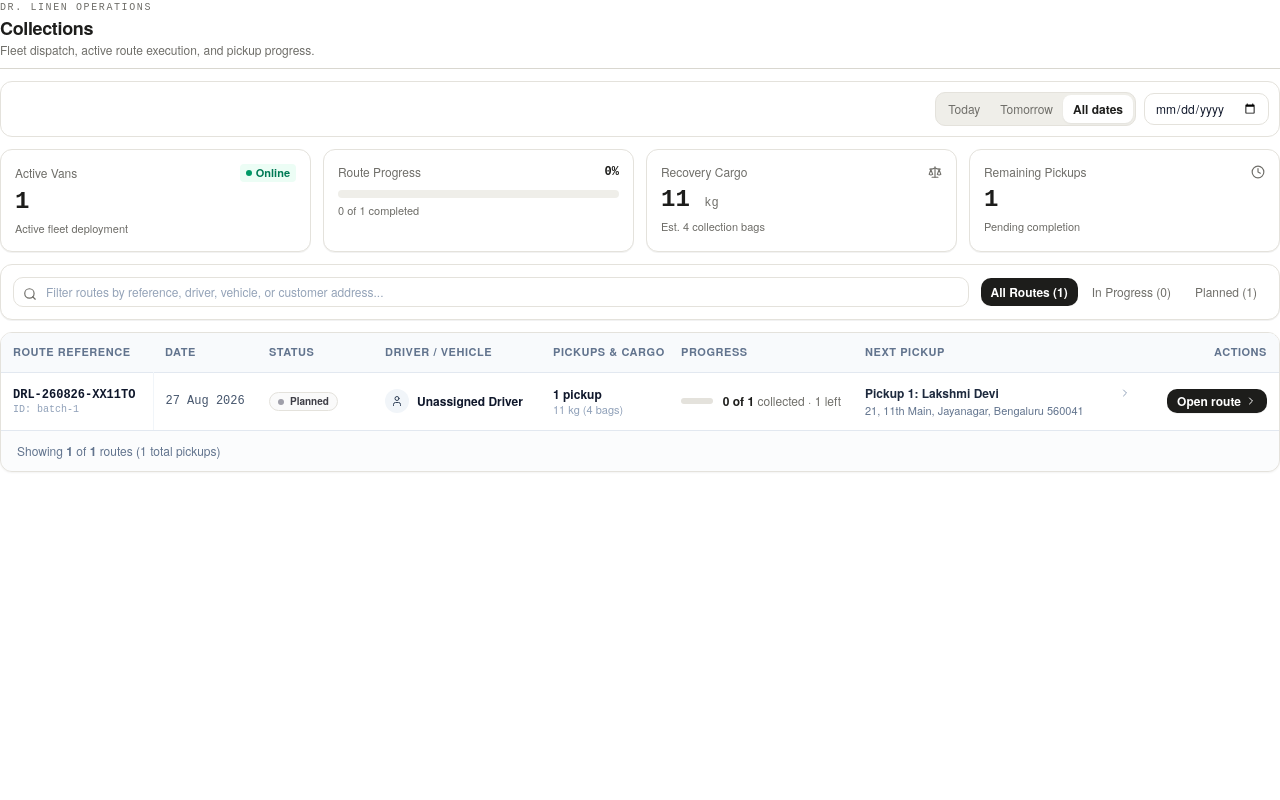
it: TextileDispatchPage › opens and closes the trip sheet modal for high-density route manifests
The image size is (1280, 800).
# Open route details drawer first by clicking the route row
Click the text "DRL-260826-XX11TO" at (77, 395), box [13,387,140,403]
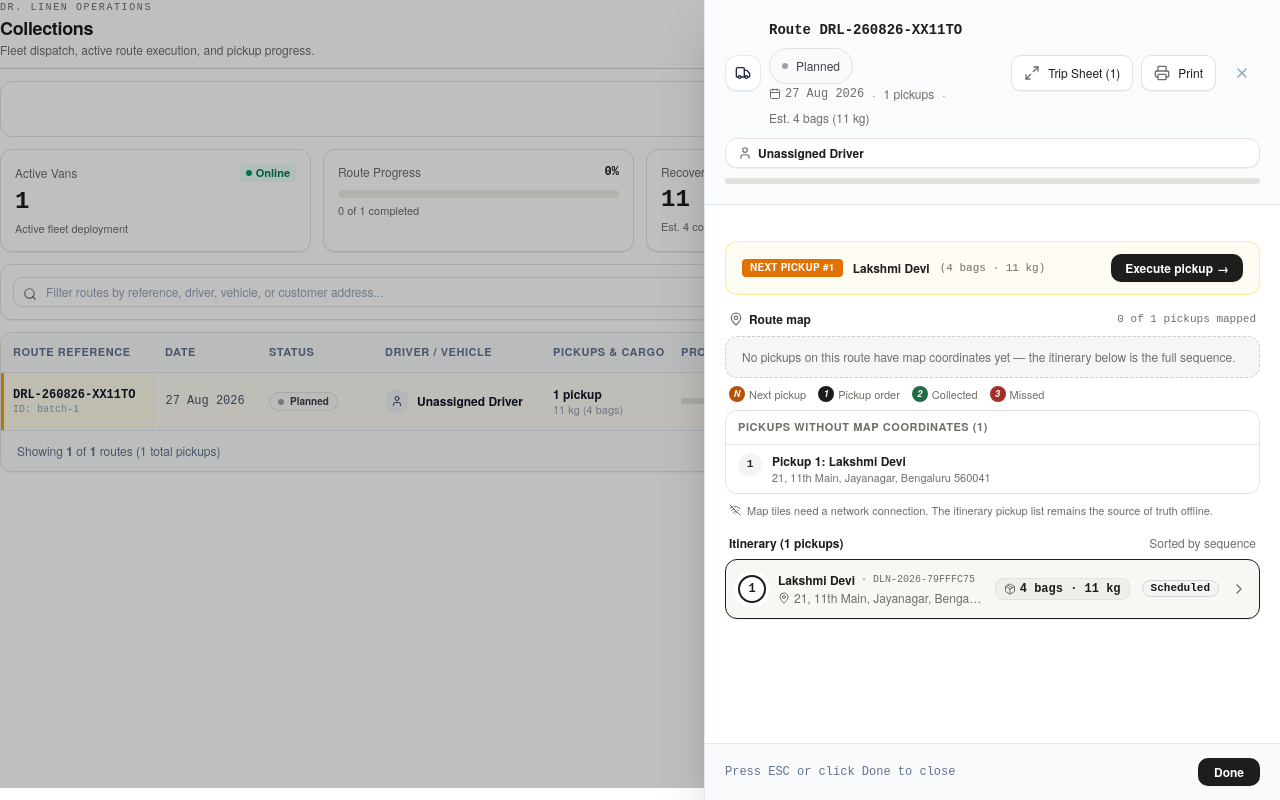
# Open Trip Sheet modal from drawer header
Click the button "Trip Sheet (1)" at (1072, 73), box [1011,55,1133,91]
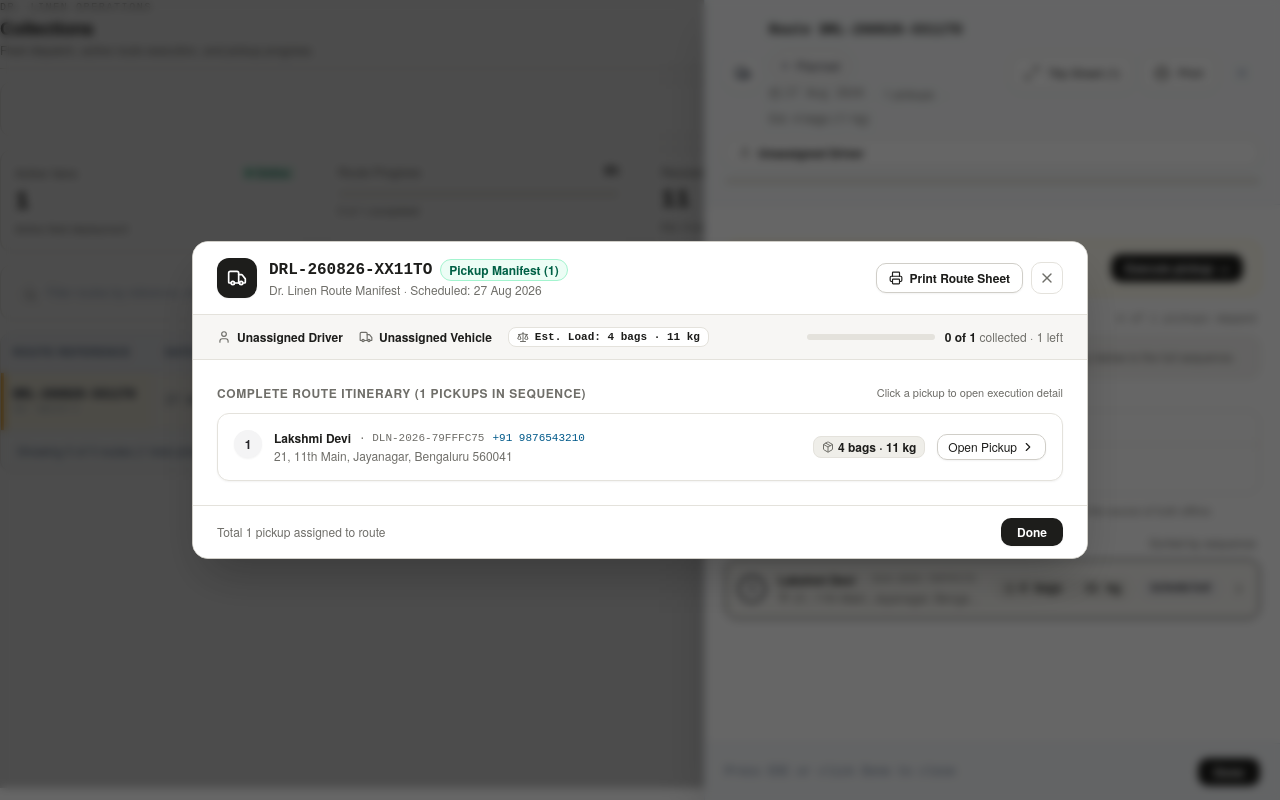
Expected: the dialog is shown, [192,241,1088,559]
Expected: the text "Pickup Manifest (1)" is shown, [440,259,568,281]
Expected: the heading "DRL-260826-XX11TO" is shown, [269,258,432,282]
# Close via Done button
Click the button "Done" at (1032, 532), box [1001,518,1063,546]
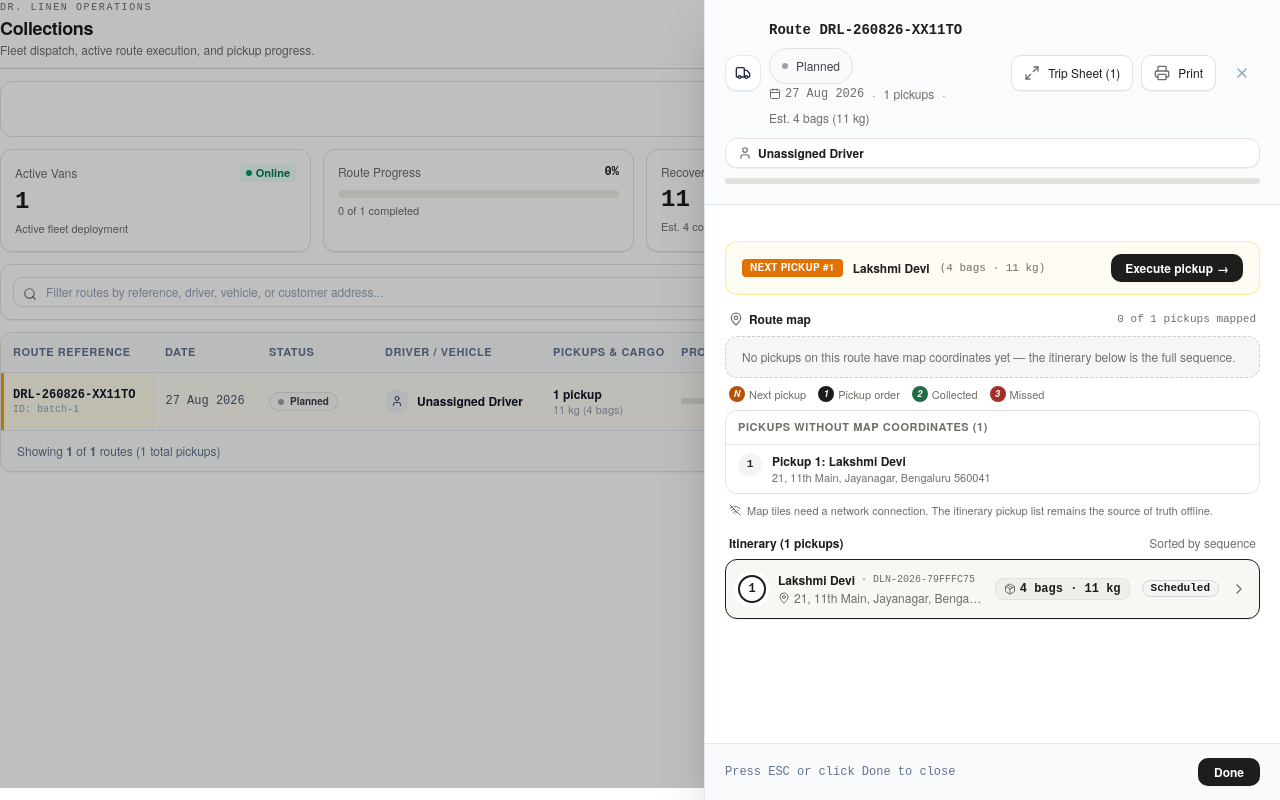
Expected: the dialog is gone
